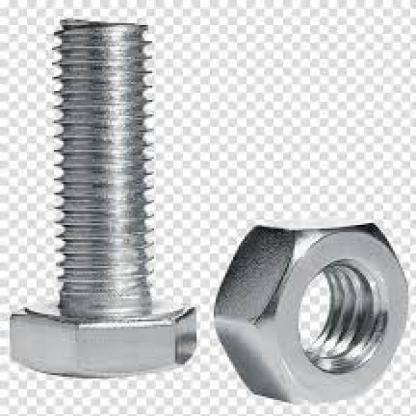METAL: (10, 18, 194, 377), (210, 222, 408, 398)
